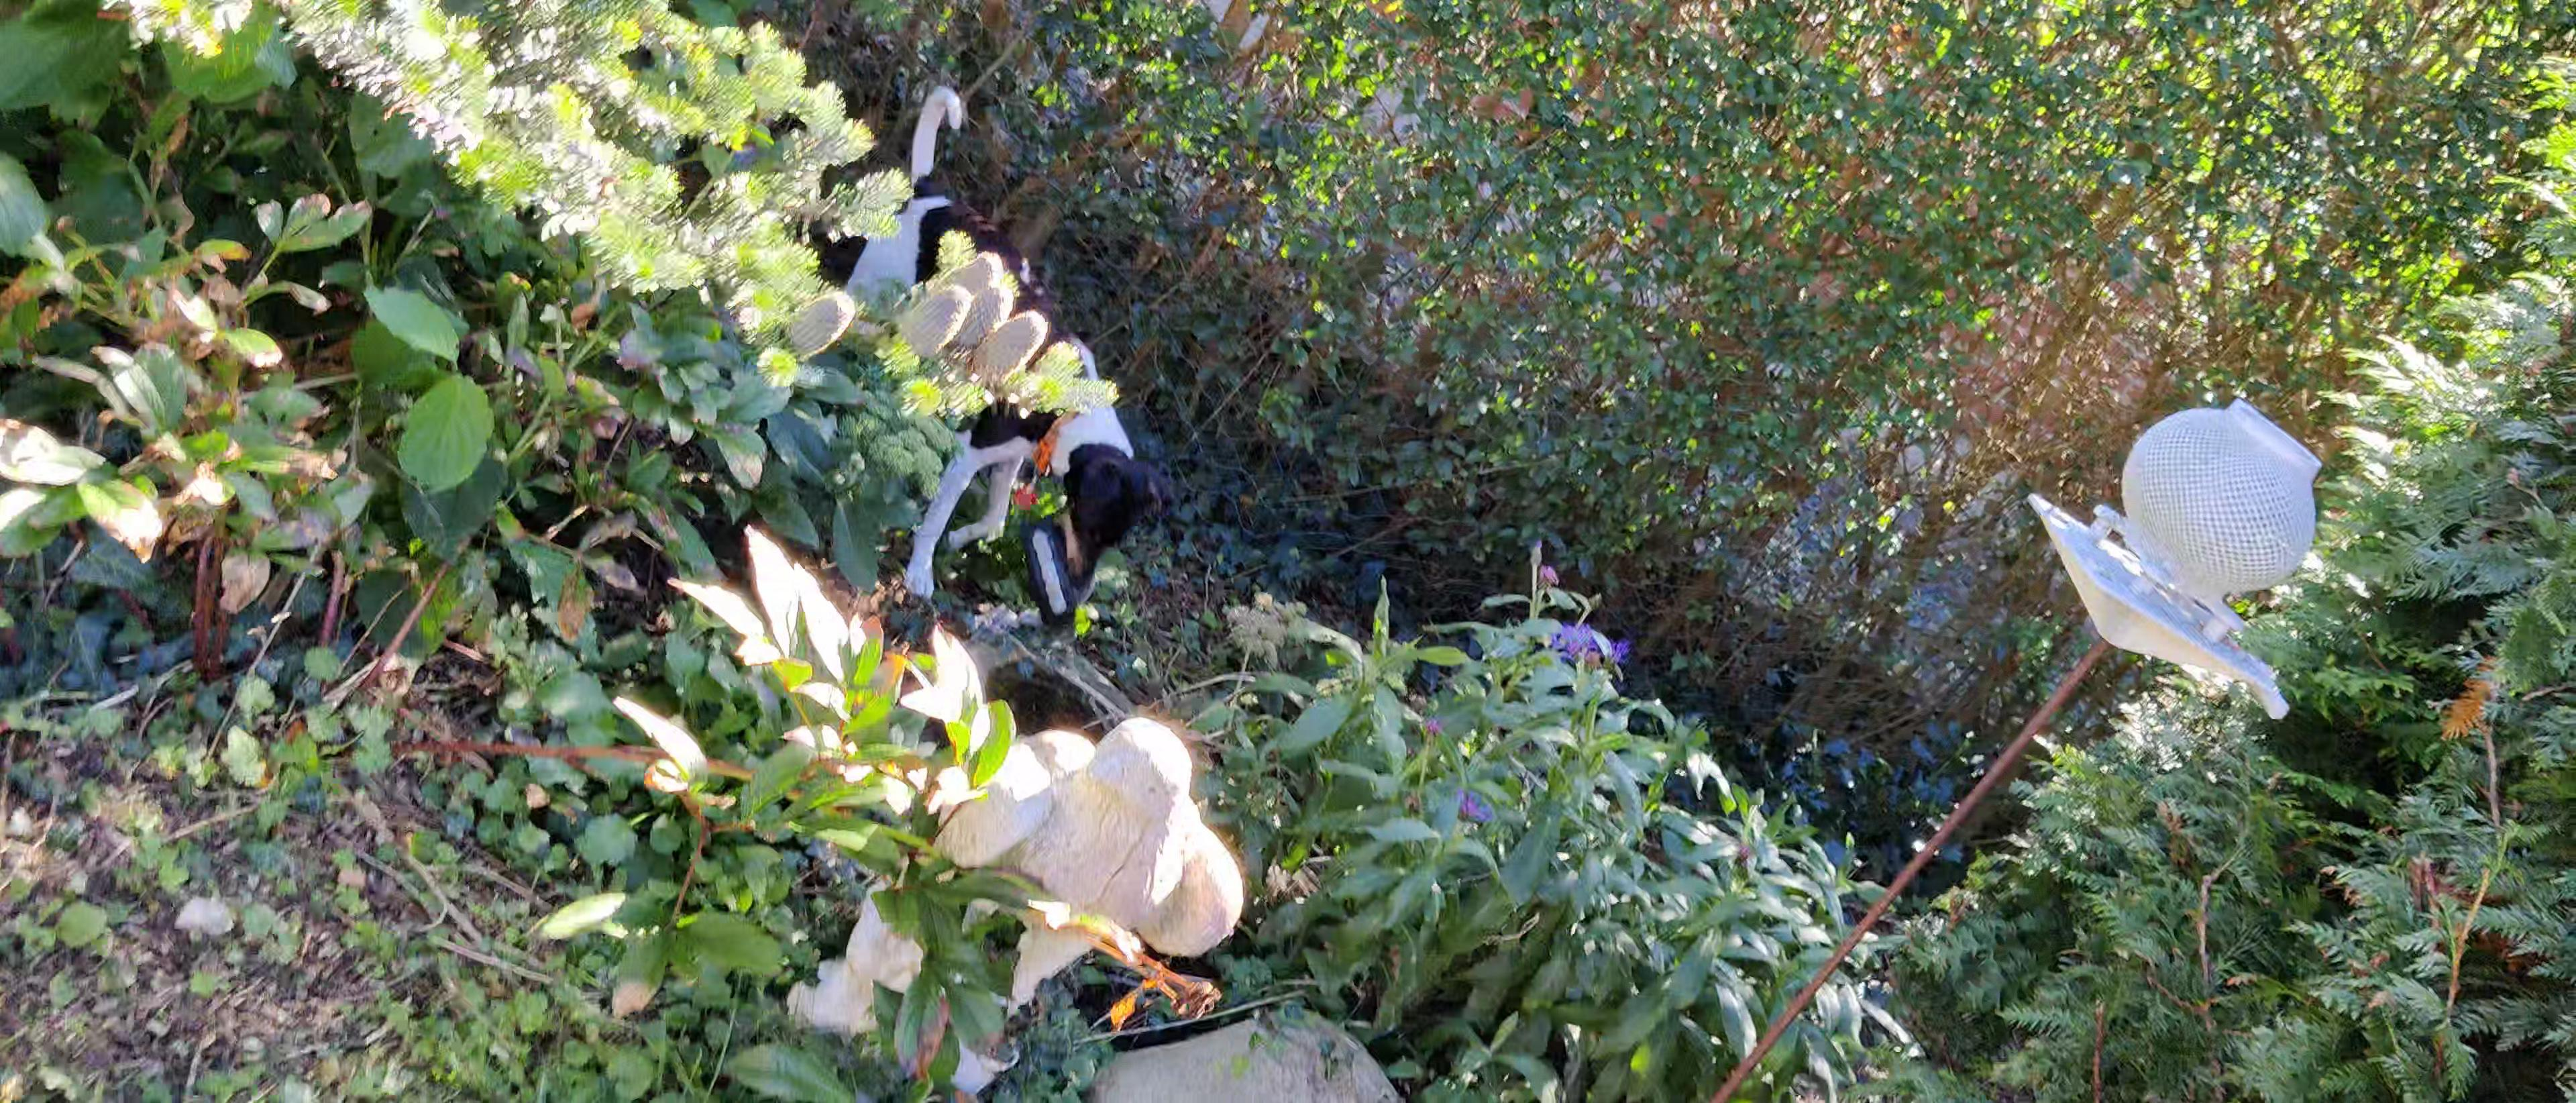Dog: (830, 79, 1178, 597)
